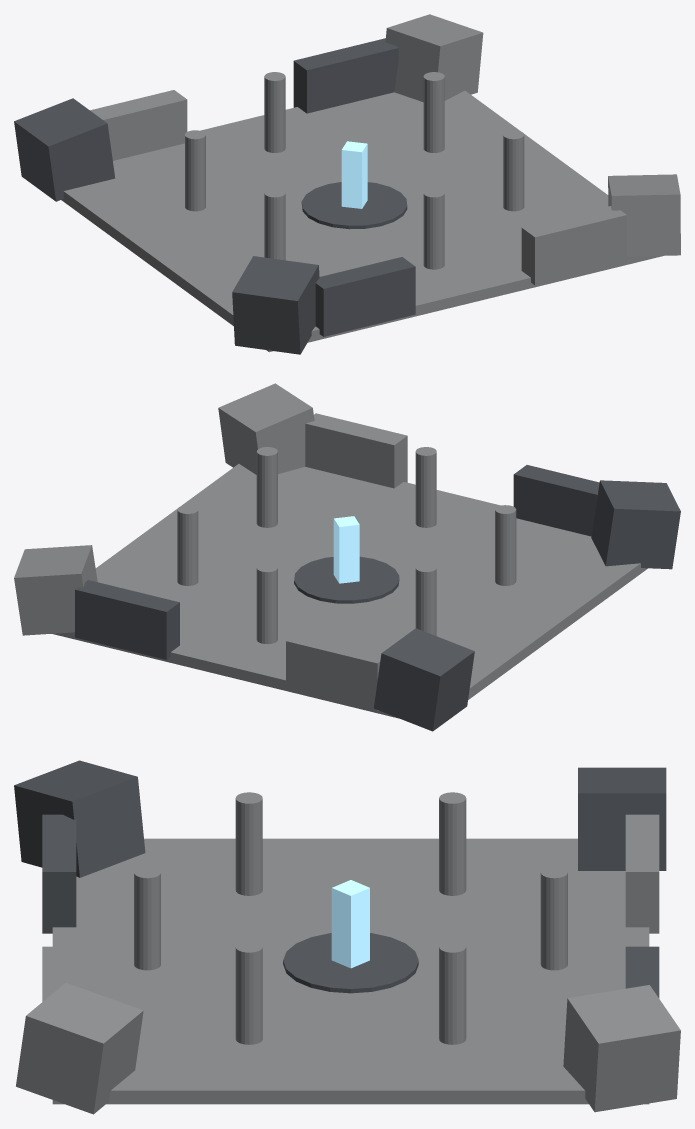
The picture shows the model from 3 angles, top to bottom: view 1: azimuth 30°, elevation 25°; view 2: azimuth 150°, elevation 25°; view 3: azimuth 270°, elevation 25°; orthographic projection. The views are drawn at different scales.
Parts seen in each view (by area): view 1: DistrictFloor, BoundaryMass0, BoundaryMass2, BoundaryNorthEast, BoundaryNorthWest, BoundaryMass1, BoundarySouthEast, BoundaryMass3, BoundarySouthWest, CrucibleBasin, CrucibleButtress0, CrucibleButtress1 (+5 smaller); view 2: DistrictFloor, BoundaryMass0, BoundaryMass2, BoundarySouthEast, BoundaryMass3, BoundaryMass1, BoundaryNorthEast, BoundarySouthWest, BoundaryNorthWest, CrucibleBasin, CrucibleButtress2, CrucibleButtress3 (+5 smaller); view 3: DistrictFloor, BoundaryMass1, BoundaryMass3, BoundaryMass2, BoundaryMass0, CrucibleBasin, BoundarySouthWest, BoundaryNorthWest, CrucibleCore, CrucibleButtress1, CrucibleButtress2, CrucibleButtress3 (+5 smaller).
Part boxes in pixels (x1,y1,x2,y2): DistrictFloor: (61, 90, 663, 352); BoundaryMass0: (14, 98, 115, 201); BoundaryMass2: (232, 256, 319, 354); BoundaryNorthEast: (521, 206, 626, 285); BoundaryNorthWest: (315, 257, 415, 336); BoundaryMass1: (385, 14, 483, 102); BoundarySouthEast: (293, 38, 398, 113); BoundaryMass3: (608, 174, 680, 256); BoundarySouthWest: (90, 90, 187, 160); CrucibleBasin: (301, 182, 407, 229); CrucibleButtress0: (423, 188, 444, 269); CrucibleButtress1: (503, 130, 524, 211); DistrictFloor: (52, 464, 647, 718); BoundaryMass0: (373, 628, 474, 731); BoundaryMass2: (591, 480, 680, 569); BoundarySouthEast: (75, 580, 179, 659); BoundaryMass3: (218, 383, 314, 474); BoundaryMass1: (14, 545, 97, 635); BoundaryNorthEast: (305, 413, 407, 488); BoundarySouthWest: (286, 631, 382, 711); BoundaryNorthWest: (513, 465, 599, 536); CrucibleBasin: (294, 556, 399, 603); CrucibleButtress2: (177, 505, 198, 585); CrucibleButtress3: (256, 563, 277, 644); DistrictFloor: (52, 838, 649, 1104); BoundaryMass1: (563, 985, 680, 1112); BoundaryMass3: (16, 983, 143, 1114); BoundaryMass2: (14, 760, 145, 877); BoundaryMass0: (578, 767, 666, 870); CrucibleBasin: (283, 933, 418, 993); BoundarySouthWest: (625, 814, 659, 933); BoundaryNorthWest: (42, 814, 76, 933); CrucibleCore: (331, 880, 369, 968); CrucibleButtress1: (235, 941, 262, 1044); CrucibleButtress2: (439, 941, 466, 1044); CrucibleButtress3: (540, 866, 567, 970).
Size of the model in its own units: 98.87 by 20 by 98.37.
